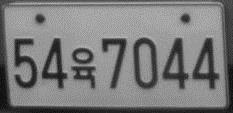0: (132, 36, 159, 89)
4: (190, 35, 220, 89), (160, 36, 189, 89), (40, 36, 68, 89)
5: (12, 37, 37, 89)
7: (99, 36, 127, 89)
육: (69, 46, 97, 89)
